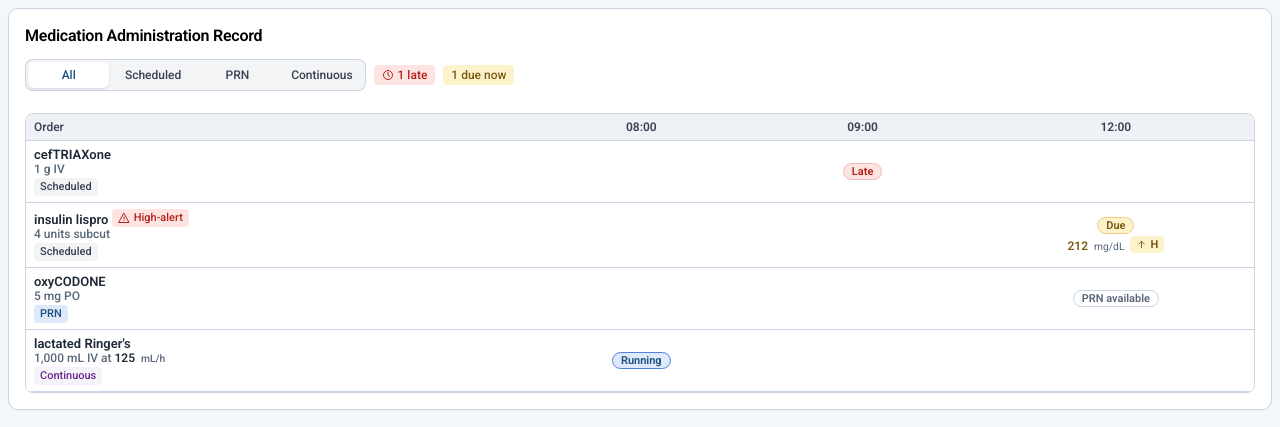
Scenario: MAR › counts late and due doses and filters by order type
The width and height of the screenshot is (1280, 427).
Check: the text "1 late" is shown, box [374, 65, 435, 85]
Check: the text "1 due now" is shown, box [443, 65, 514, 85]
What coordinates should you click on to do the following:
click the radio button labelled "PRN"
I would click on:
 (238, 75)
Its box is [197, 62, 278, 88].
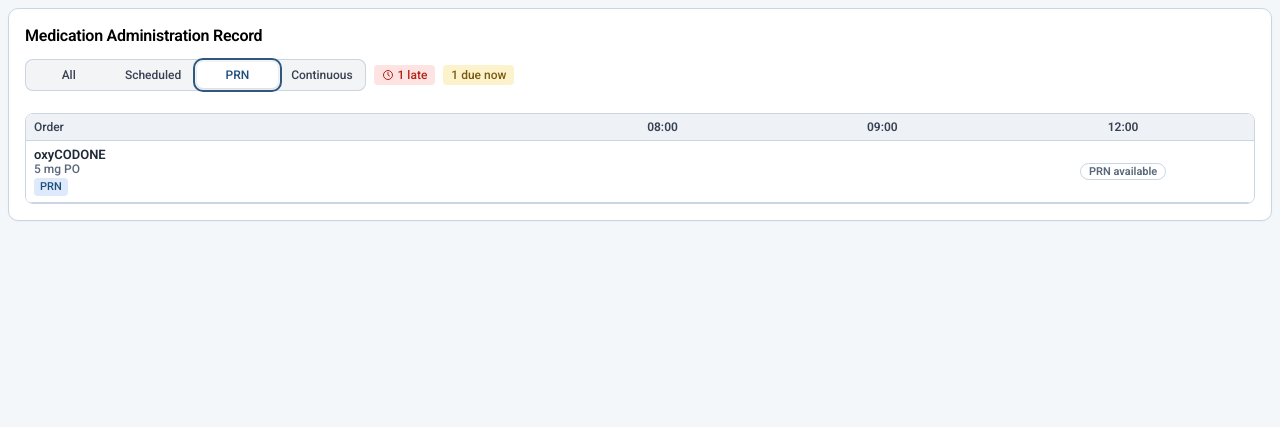
Check: the column heading "oxyCODONE 5 mg PO PRN" is shown, box [26, 141, 553, 202]
Check: the text "cefTRIAXone" is gone
